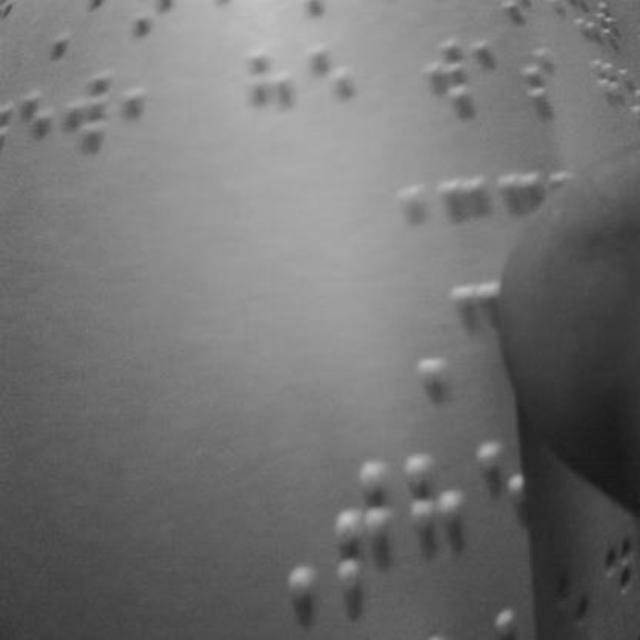braiile: (332, 457, 400, 607), (403, 452, 467, 598), (306, 28, 359, 142), (246, 36, 298, 146), (424, 27, 476, 123)
